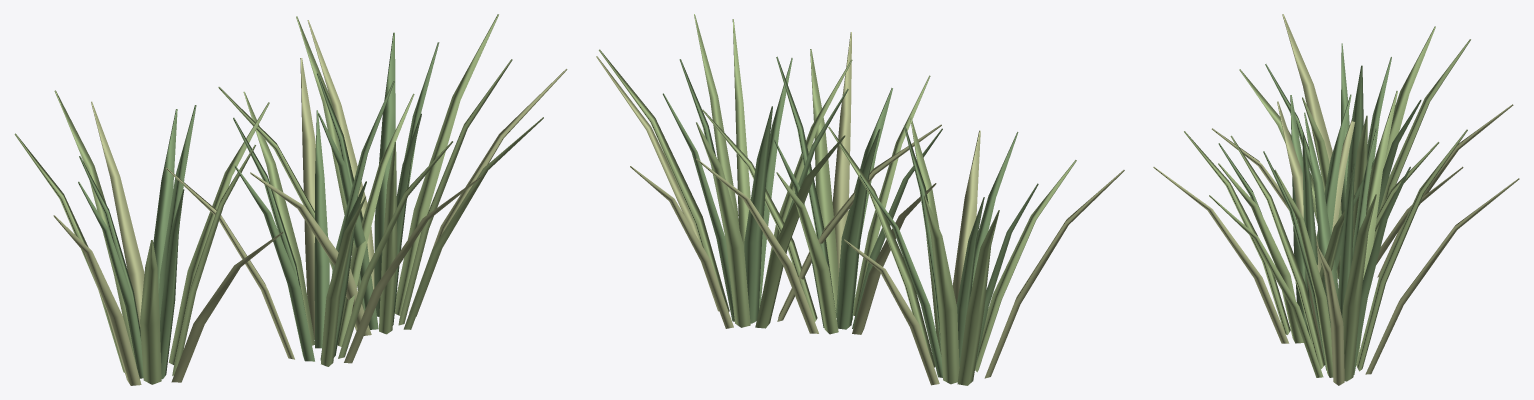
Rendered from campo_grass_0.glb.
3 views of the same model, side by side, from view 1: azimuth 30°, elevation 25°; view 2: azimuth 150°, elevation 25°; view 3: azimuth 270°, elevation 25° (orthographic). The views are drawn at different scales.
Parts seen in each view (by area): view 1: CampoGrassFresh, CampoGrassDeep, CampoGrassGold; view 2: CampoGrassFresh, CampoGrassDeep, CampoGrassGold; view 3: CampoGrassFresh, CampoGrassDeep, CampoGrassGold.
Boxes of the visible parts, x1,y1,x2,y2 form: CampoGrassFresh: (14,14,543,384); CampoGrassDeep: (78,32,439,379); CampoGrassGold: (53,20,567,385); CampoGrassFresh: (598,14,1076,385); CampoGrassDeep: (662,56,1038,377); CampoGrassGold: (596,32,1124,385); CampoGrassFresh: (1184,26,1470,381); CampoGrassDeep: (1218,43,1421,374); CampoGrassGold: (1153,14,1519,385).
Size of the model in its own units: 1.3 by 0.6248 by 0.855.
